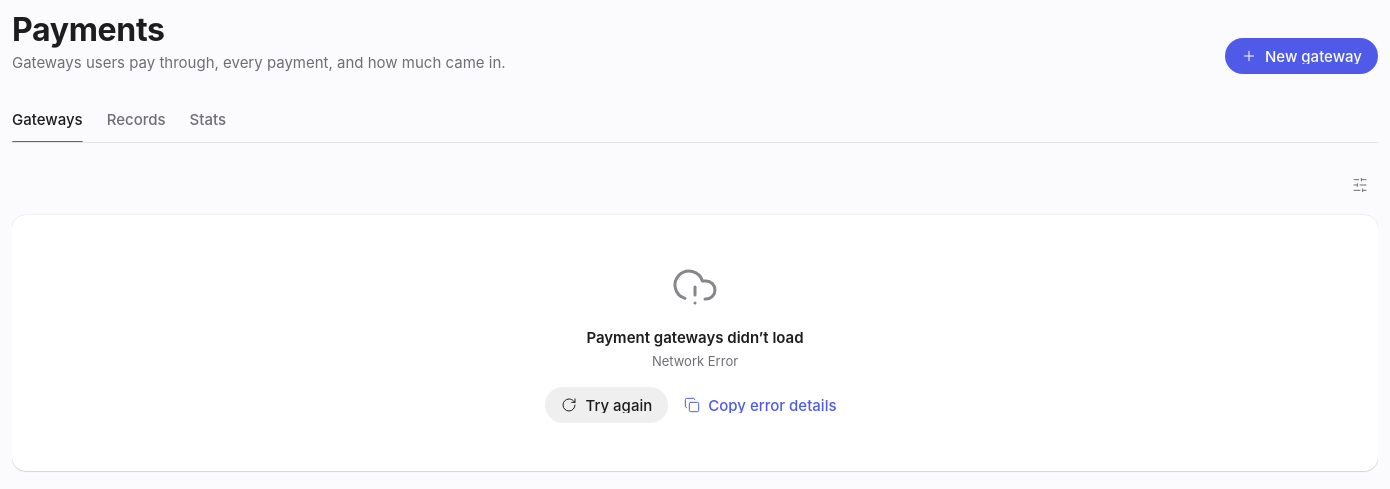
Test: Admin Payment › dialogs and feedback › shows a load error with retry for the gateways
expect the message shows "Payment gateways didn’t load": met, box [586,328,804,347]
Click the button "Try again".
click(607, 405)  # box [546,387,668,423]
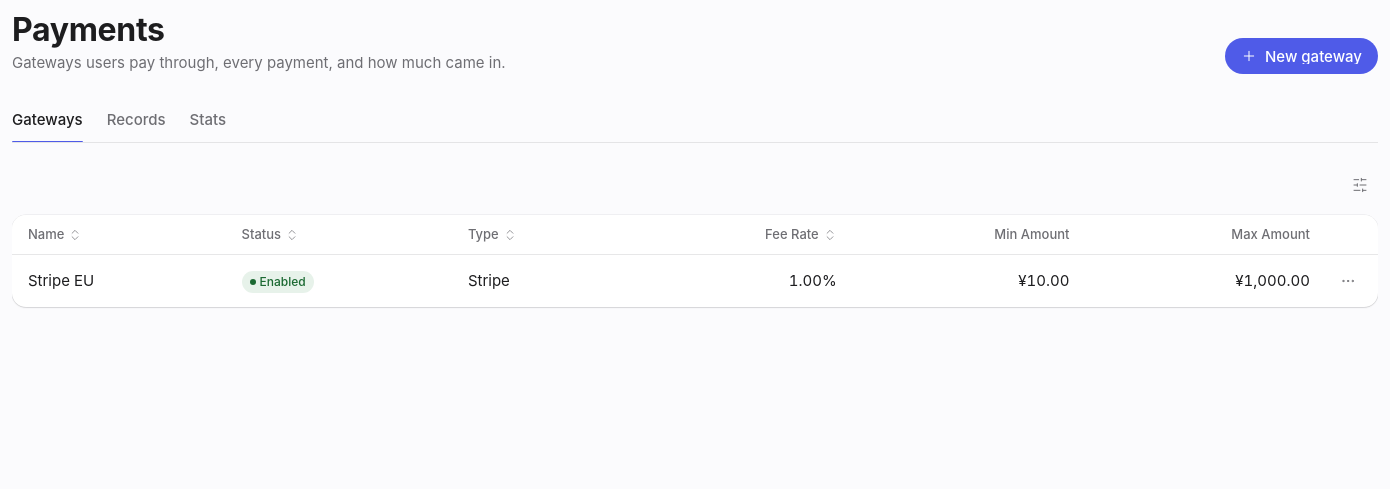
expect the text "Stripe EU" is shown: met, box [12,255,226,307]
